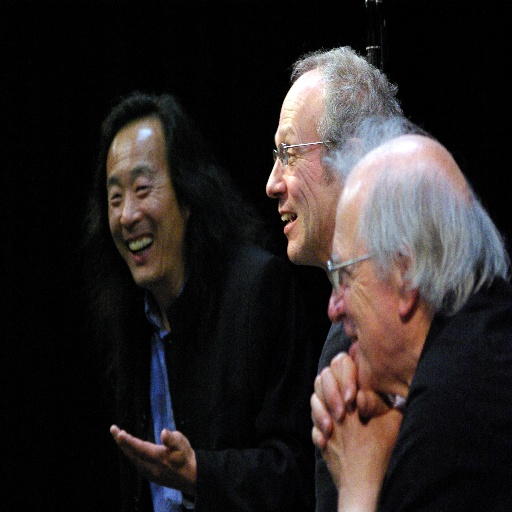hand: (310, 350, 389, 450), (109, 425, 194, 492)
